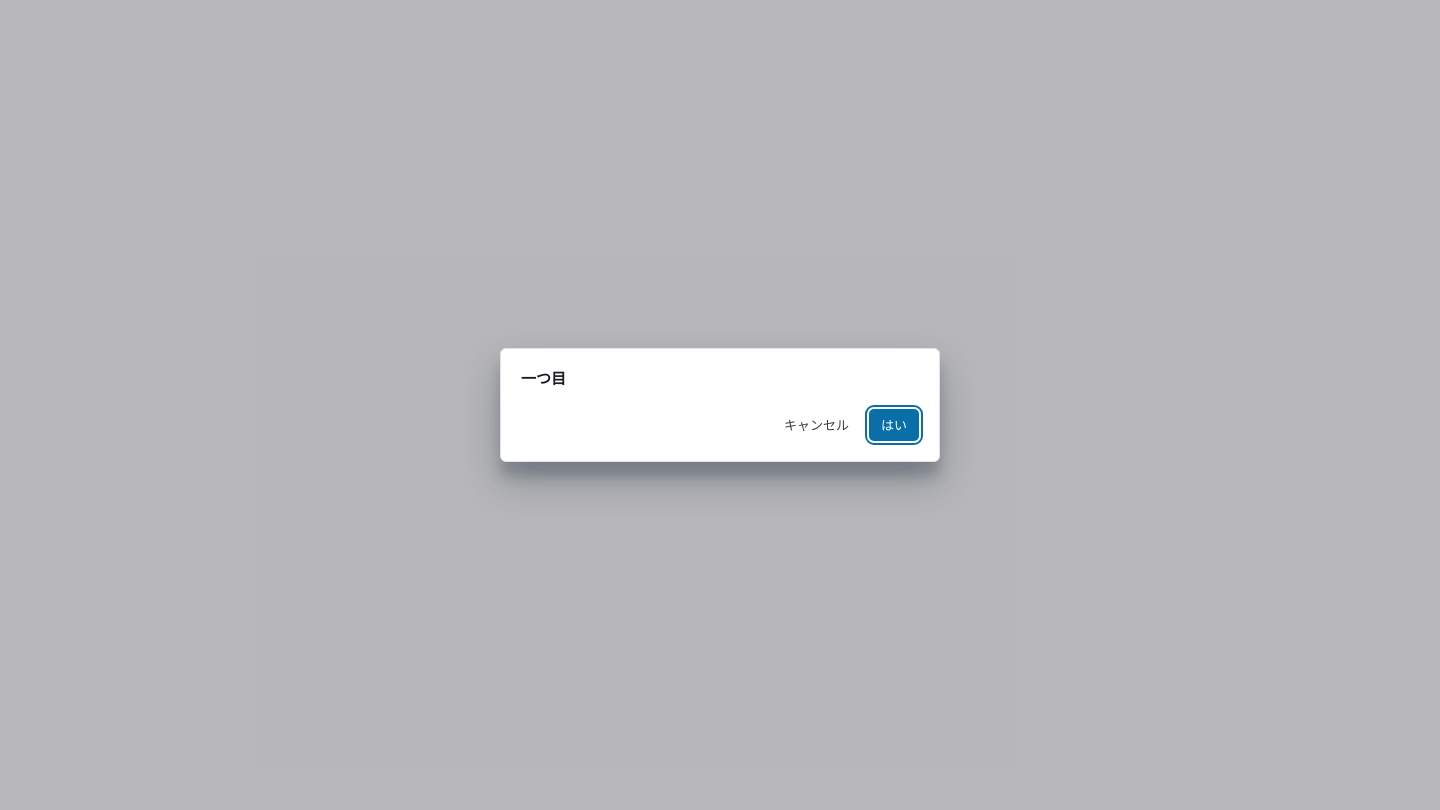
Test: AskDialog › shows one question at a time, in the order asked
The image size is (1440, 810).
Later steps or results of the test are not shown.
expect the dialog shows "一つ目": met, box [521, 370, 566, 387]
Click the button "はい" at (894, 425), box [869, 409, 919, 441]
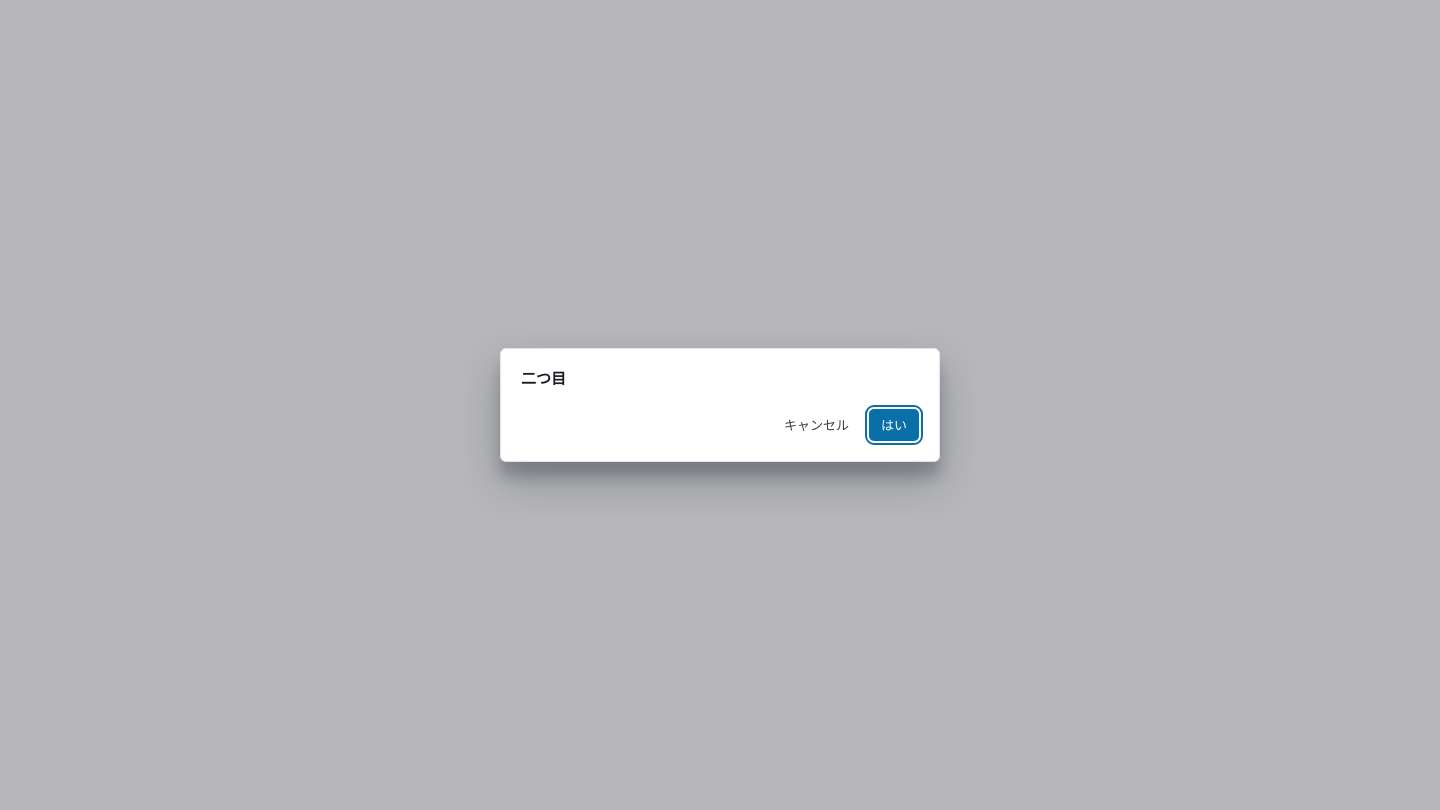
expect the dialog shows "二つ目": met, box [521, 370, 566, 387]
